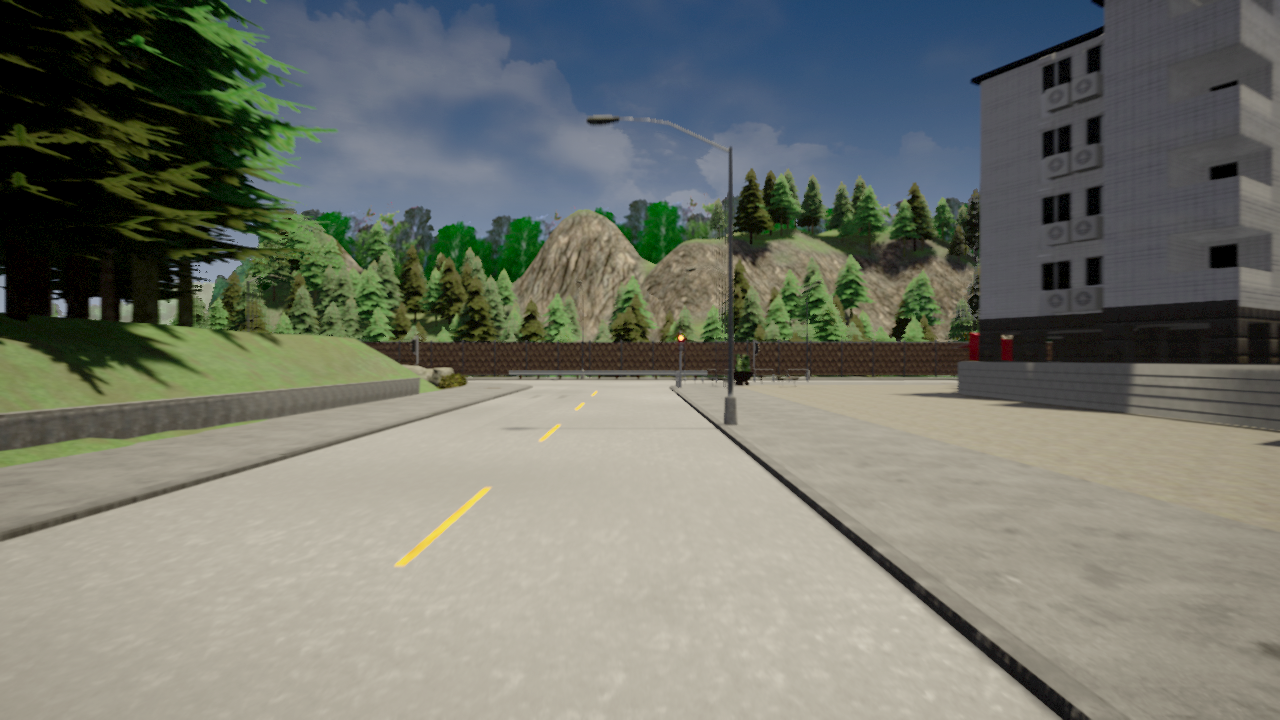red: (677, 333, 685, 351)
